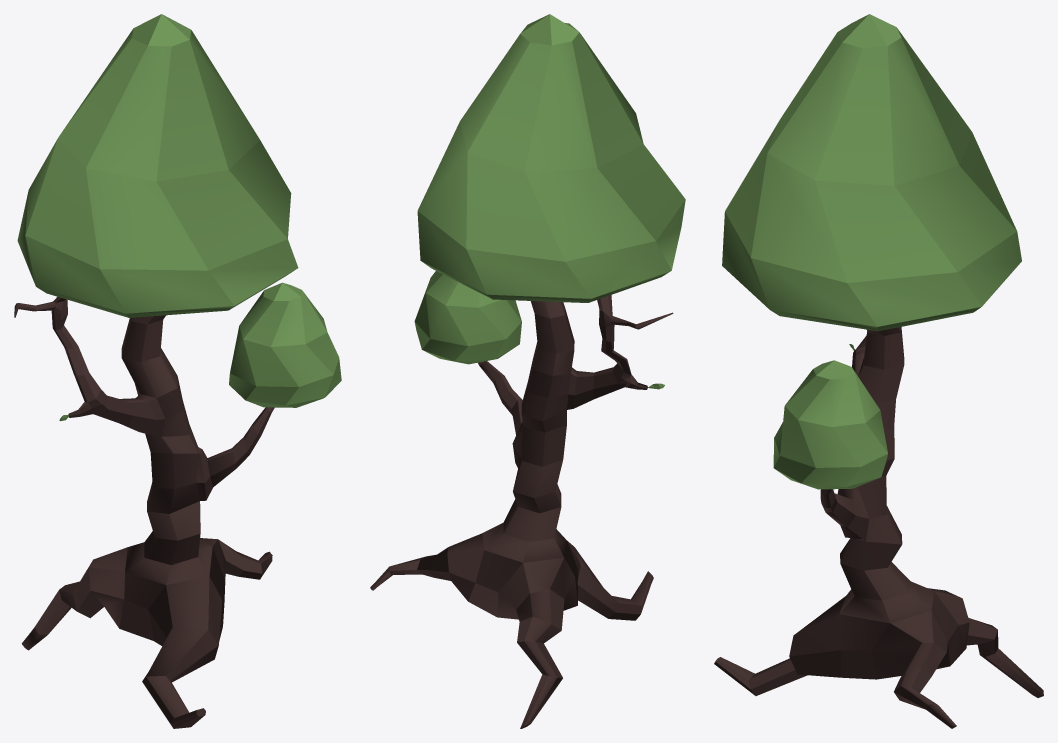
File: 2. Tree II.fbx
3 views of the same model, side by side, from view 1: azimuth 30°, elevation 25°; view 2: azimuth 150°, elevation 25°; view 3: azimuth 270°, elevation 25° (orthographic). The views are drawn at different scales.
Parts seen in each view (by area): view 1: 2. Tree II; view 2: 2. Tree II; view 3: 2. Tree II.
Boxes of the visible parts, bbox=[...] form: 2. Tree II: bbox=[14, 14, 341, 728]; 2. Tree II: bbox=[370, 14, 685, 728]; 2. Tree II: bbox=[714, 14, 1043, 728].
Bounding box in the file's own units: 246 × 550 × 231.
